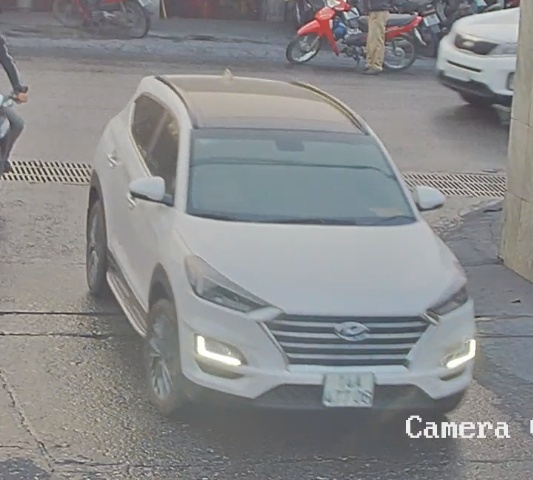vehicle plate: (318, 364, 377, 412)
